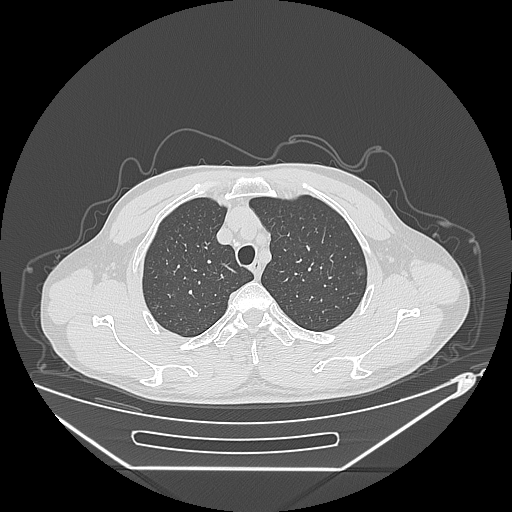nodule: (354, 265, 365, 276)
